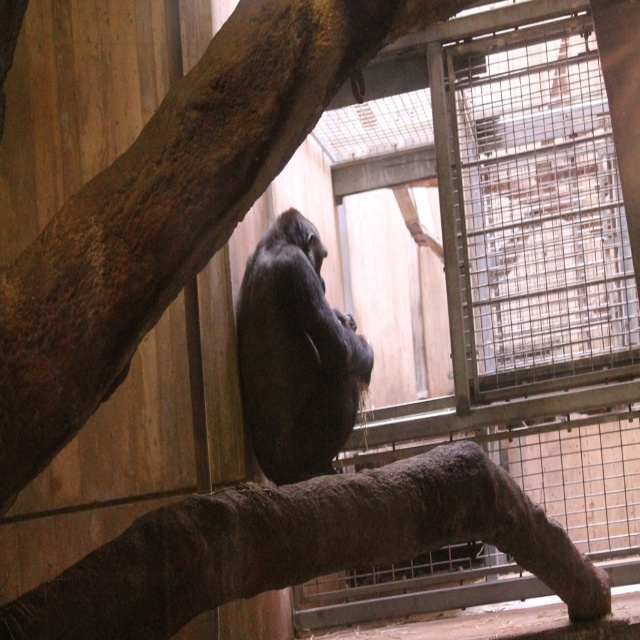Monkey: (222, 196, 375, 514)
